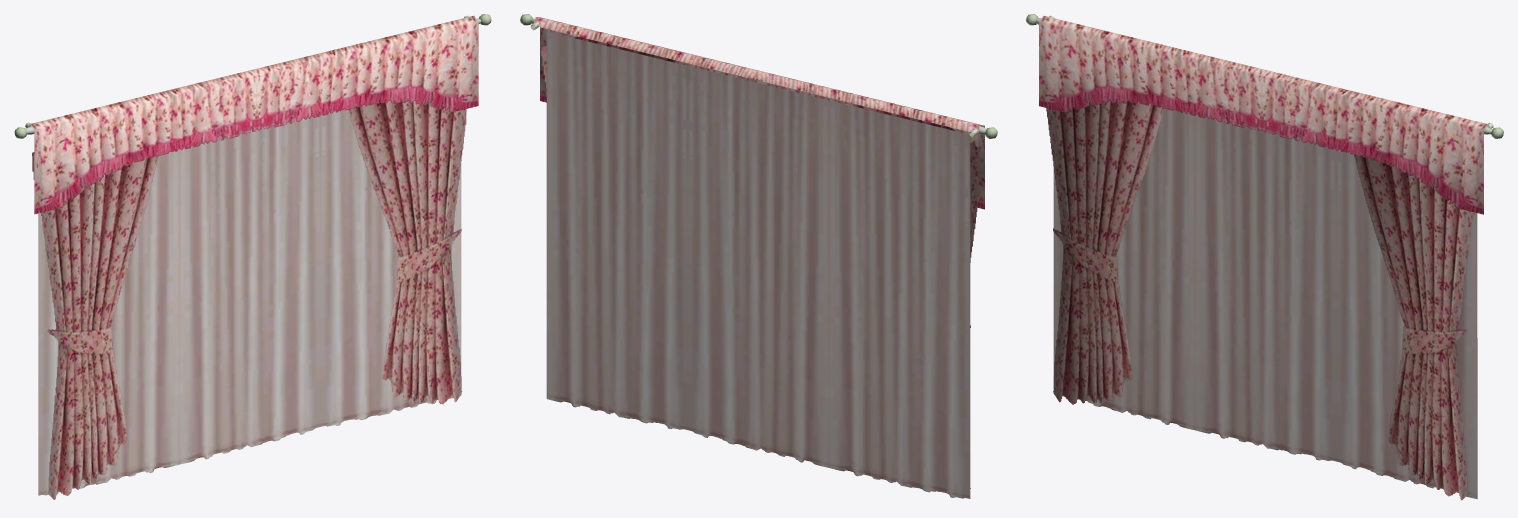
The model's file is furni_0200529_01.FBX.
3 views of the same model, side by side, from view 1: azimuth 30°, elevation 25°; view 2: azimuth 150°, elevation 25°; view 3: azimuth 330°, elevation 25° (orthographic).
Visible parts, largest first — view 1: furni_0200529_01; view 2: furni_0200529_01; view 3: furni_0200529_01.
Boxes of the visible parts, x1=… form: furni_0200529_01: x1=14, y1=14, x2=491, y2=499; furni_0200529_01: x1=520, y1=14, x2=997, y2=498; furni_0200529_01: x1=1026, y1=14, x2=1503, y2=500.
Bounding box in the file's own units: 353 × 269 × 12.49.
Materials: 2 (2 with a texture image).
